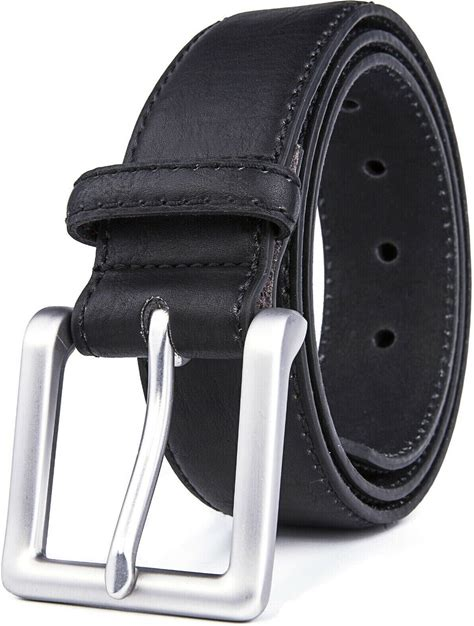cuero: (73, 1, 473, 536)
